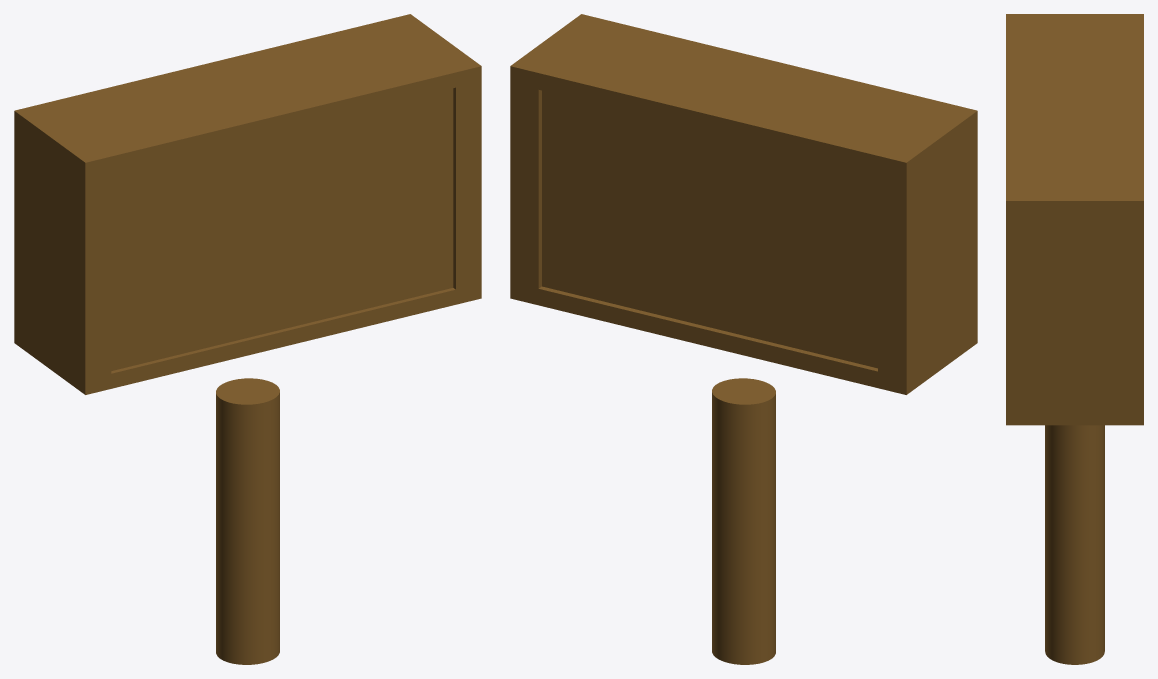
Rendered from DangerSign.fbx.
3 renders of one model, left to right at view 1: azimuth 30°, elevation 25°; view 2: azimuth 150°, elevation 25°; view 3: azimuth 270°, elevation 25°, orthographic. The views are drawn at different scales.
Parts seen in each view (by area): view 1: Cube, Cylinder; view 2: Cube, Cylinder; view 3: Cube, Cylinder.
Boxes of the visible parts, x1,y1,x2,y2 form: Cube: (14,14,481,394); Cylinder: (216,378,279,664); Cube: (510,14,977,394); Cylinder: (712,378,775,664); Cube: (1006,14,1143,425); Cylinder: (1045,425,1104,664).
Bounding box in the file's own units: 320 × 435 × 99.78.
